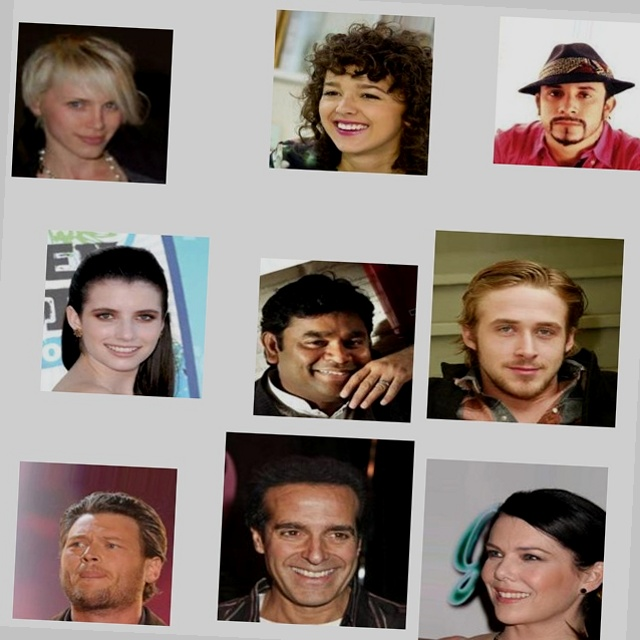celeb_1212: (35, 482, 200, 640)
celeb_2336: (237, 431, 435, 629)
celeb_2970: (41, 248, 210, 417)
celeb_3: (470, 0, 625, 148)
celeb_5695: (440, 439, 630, 629)
celeb_7: (255, 256, 420, 421)
celeb_7007: (247, 7, 413, 173)
celeb_797: (0, 45, 153, 207)
celeb_8335: (427, 210, 624, 408)
